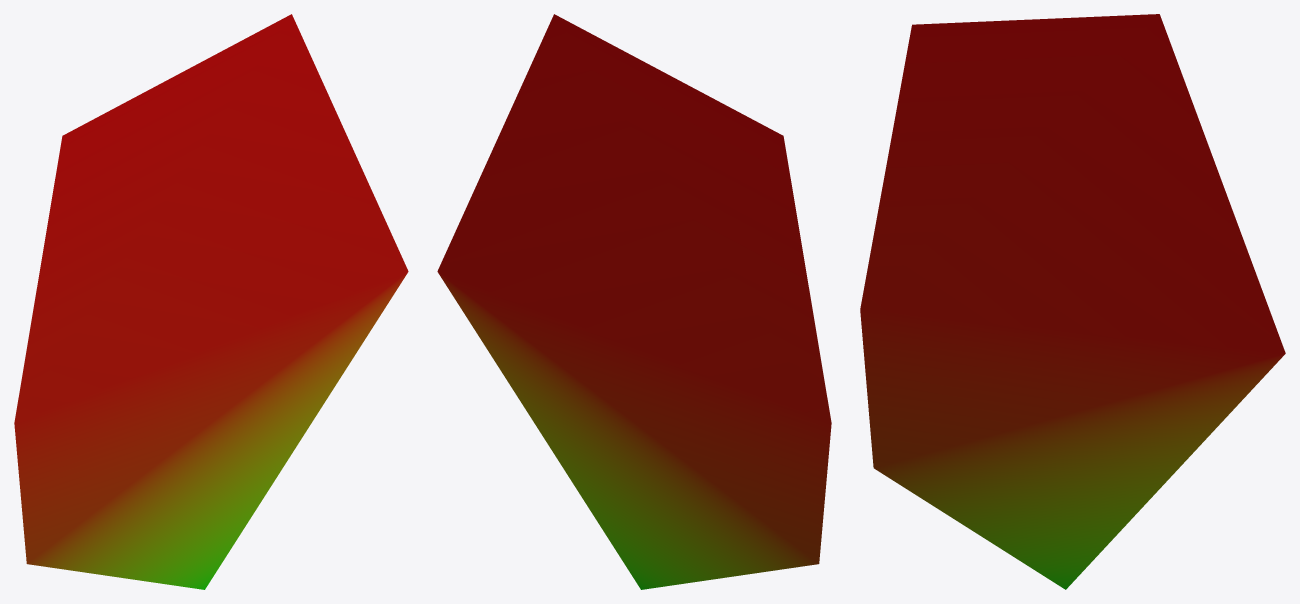
The model's file is Raspberry_LOD4_Var14_wf0oefeja.fbx.
3 renders of one model, left to right at view 1: azimuth 30°, elevation 25°; view 2: azimuth 150°, elevation 25°; view 3: azimuth 330°, elevation 25°, orthographic. The views are drawn at different scales.
Visible parts, largest first — view 1: _4bdn_Var14_LOD4; view 2: _4bdn_Var14_LOD4; view 3: _4bdn_Var14_LOD4.
Boxes of the visible parts, box(x1,y1,x2,y2) form: _4bdn_Var14_LOD4: box(14, 14, 408, 589); _4bdn_Var14_LOD4: box(437, 14, 831, 589); _4bdn_Var14_LOD4: box(860, 14, 1285, 589).
Bounding box in the file's own units: 6.36 × 8.56 × 1.02e-06.
